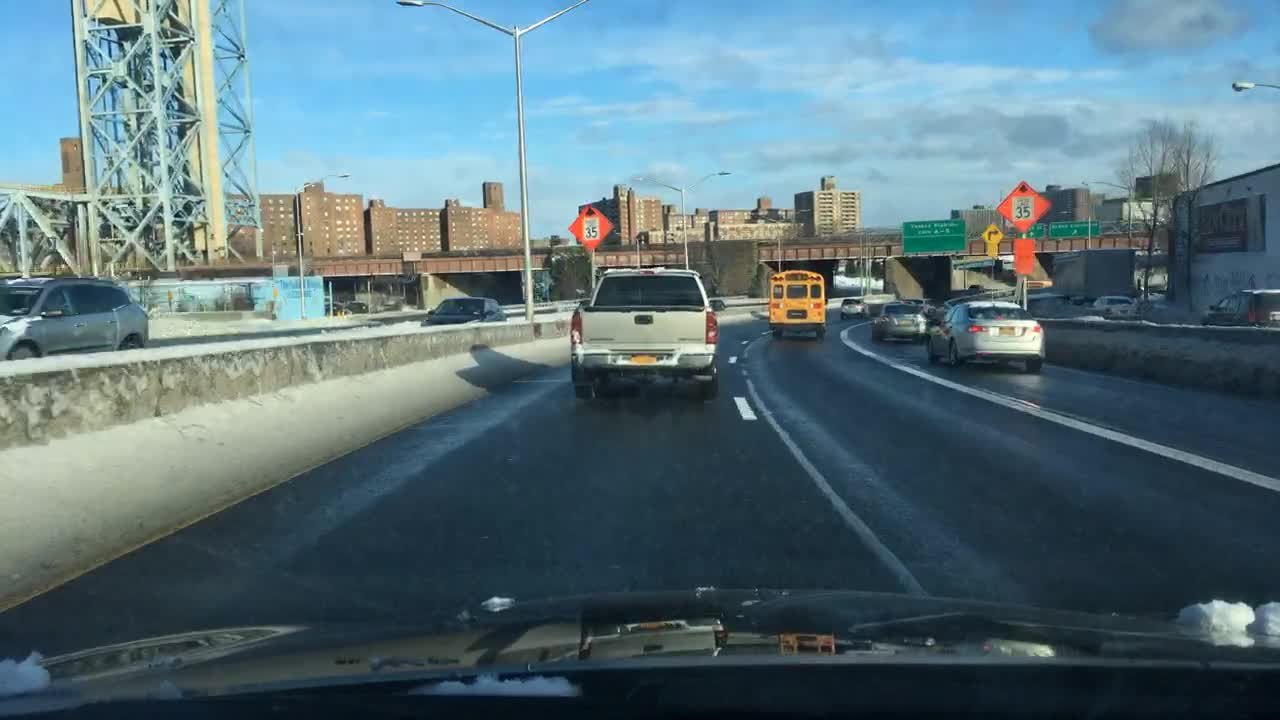bus: (765, 267, 827, 340)
car: (0, 271, 151, 363), (924, 299, 1048, 376), (1198, 283, 1279, 329), (866, 299, 930, 345), (419, 295, 507, 327), (1090, 294, 1134, 317), (836, 295, 866, 321), (343, 299, 369, 314), (964, 282, 985, 291), (323, 303, 339, 313), (911, 296, 926, 306)
traffic sign: (997, 180, 1054, 231), (900, 217, 967, 257), (567, 202, 617, 254), (1051, 217, 1103, 241), (1011, 237, 1034, 273), (1019, 222, 1047, 240), (983, 222, 1003, 243)
truck: (567, 263, 728, 401)
